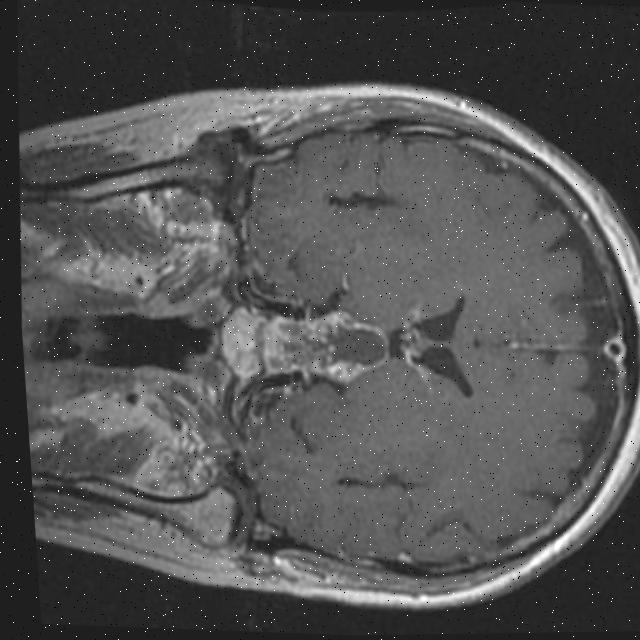Pituitary: (258, 308, 393, 387), (215, 305, 264, 380)
